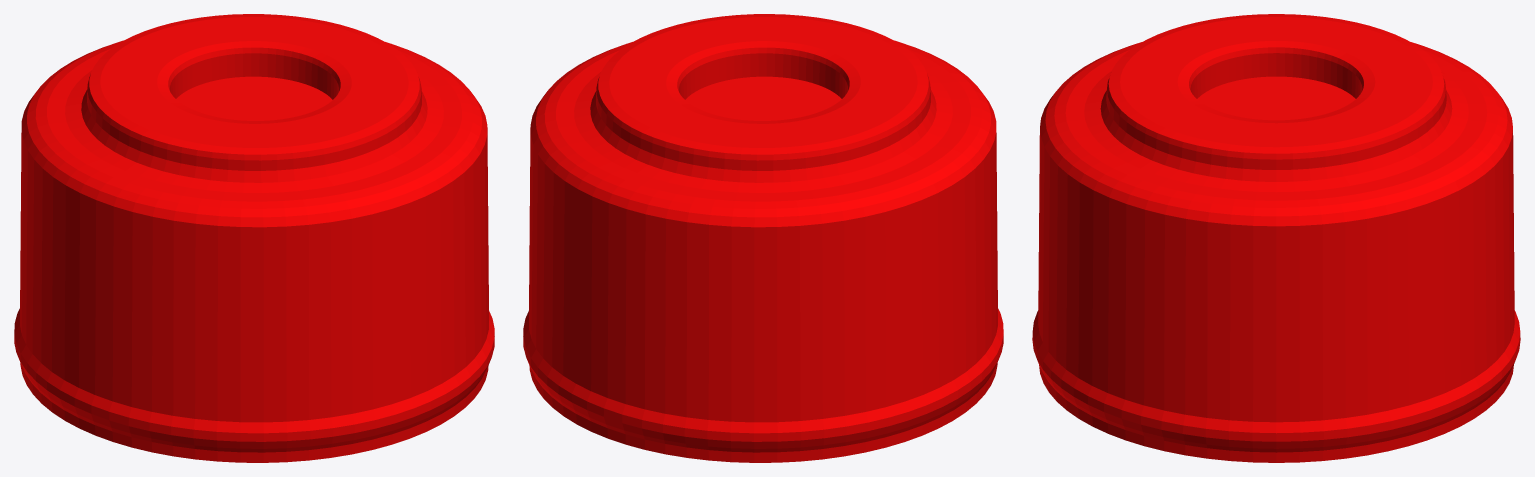
3 renders of one model, left to right at view 1: azimuth 30°, elevation 25°; view 2: azimuth 150°, elevation 25°; view 3: azimuth 270°, elevation 25°, orthographic.
Visible parts, largest first — view 1: MF1509_6_0; view 2: MF1509_6_0; view 3: MF1509_6_0.
Boxes of the visible parts, x1,y1,x2,y2 form: MF1509_6_0: (14,14,494,462); MF1509_6_0: (523,14,1003,462); MF1509_6_0: (1032,14,1520,462).
Size of the model in its own units: 89.47 by 90.76 by 57.85.
